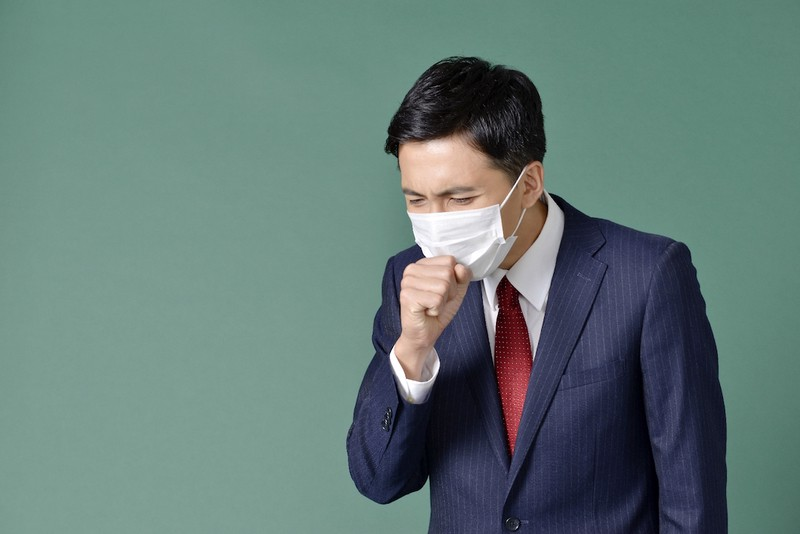mask: (409, 208, 524, 280)
